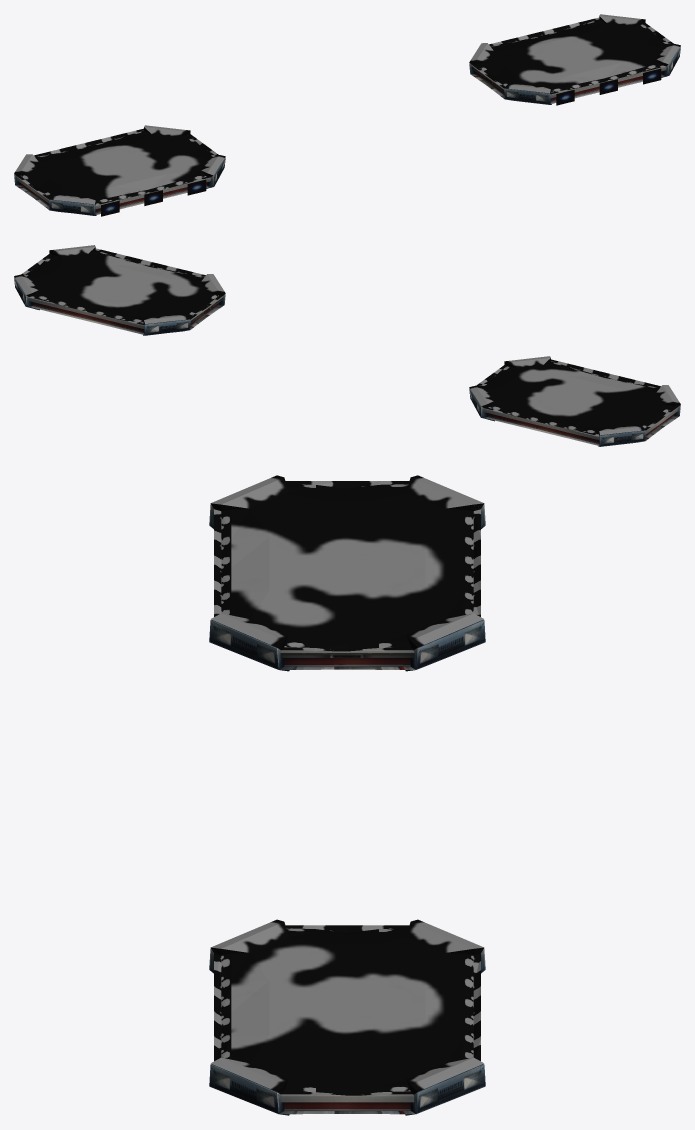
File: platforms.glb
3 renders of one model, top to bottom at view 1: azimuth 30°, elevation 25°; view 2: azimuth 150°, elevation 25°; view 3: azimuth 270°, elevation 25°, orthographic. The views are drawn at different scales.
Visible parts, largest first — view 1: NShadow1_B01, NShadow1_B02, OtachidaiR (×3), OtachidaiL (×3); view 2: NShadow1_B01, NShadow1_B02, OtachidaiL (×2), OtachidaiR (×2); view 3: NShadow1_B01, NShadow1_B02, OtachidaiR (×2), OtachidaiL (×2).
Boxes of the visible parts, bbox=[...] form: NShadow1_B01: bbox=[469, 14, 680, 94]; NShadow1_B02: bbox=[14, 125, 225, 205]; OtachidaiR (×3): bbox=[469, 21, 680, 105]; OtachidaiL (×3): bbox=[14, 131, 225, 216]; NShadow1_B01: bbox=[14, 245, 225, 324]; NShadow1_B02: bbox=[469, 356, 680, 436]; OtachidaiL (×2): bbox=[469, 362, 680, 446]; OtachidaiR (×2): bbox=[14, 252, 225, 335]; NShadow1_B01: bbox=[210, 919, 484, 1095]; NShadow1_B02: bbox=[210, 475, 484, 651]; OtachidaiR (×2): bbox=[209, 948, 485, 1115]; OtachidaiL (×2): bbox=[209, 504, 485, 671].
Bounding box in the file's own units: 113 × 3.17 × 21.38.
14 materials, 14 textured.
